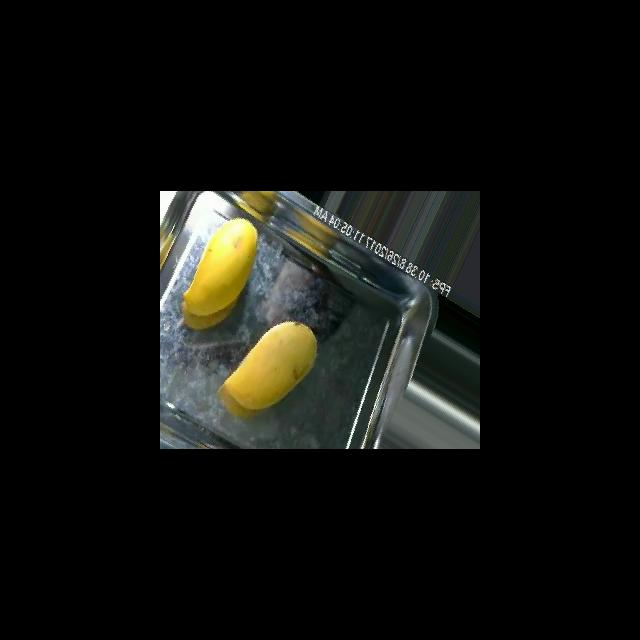mango: (216, 320, 317, 416), (180, 216, 258, 329)
